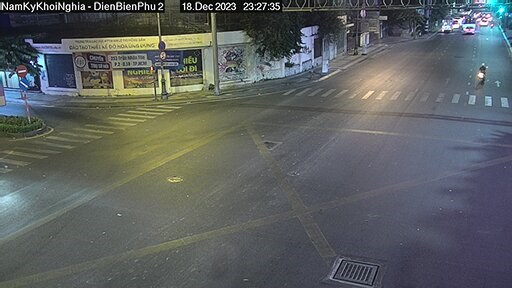motorbike: (475, 64, 487, 84)
